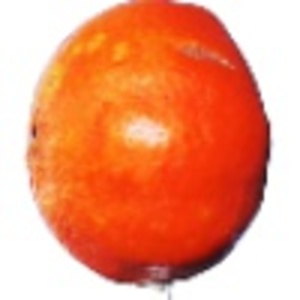tangerina: (23, 1, 274, 292)
